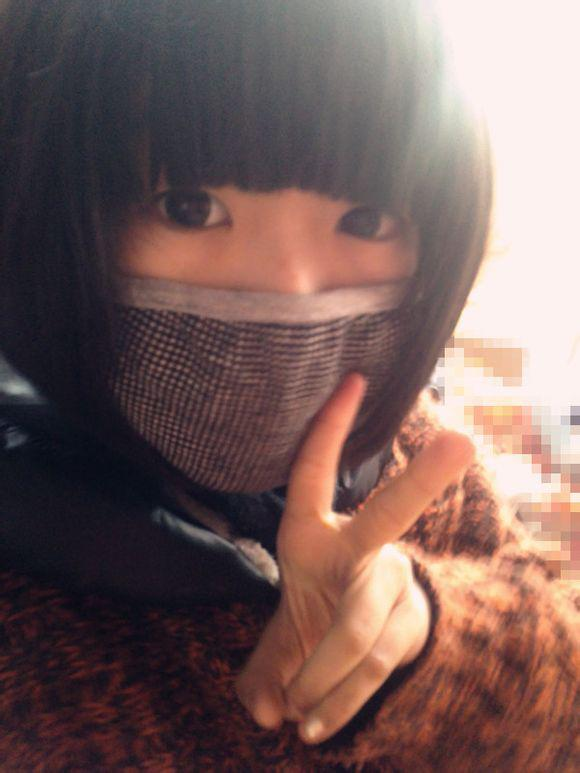OK: (87, 124, 417, 463)
